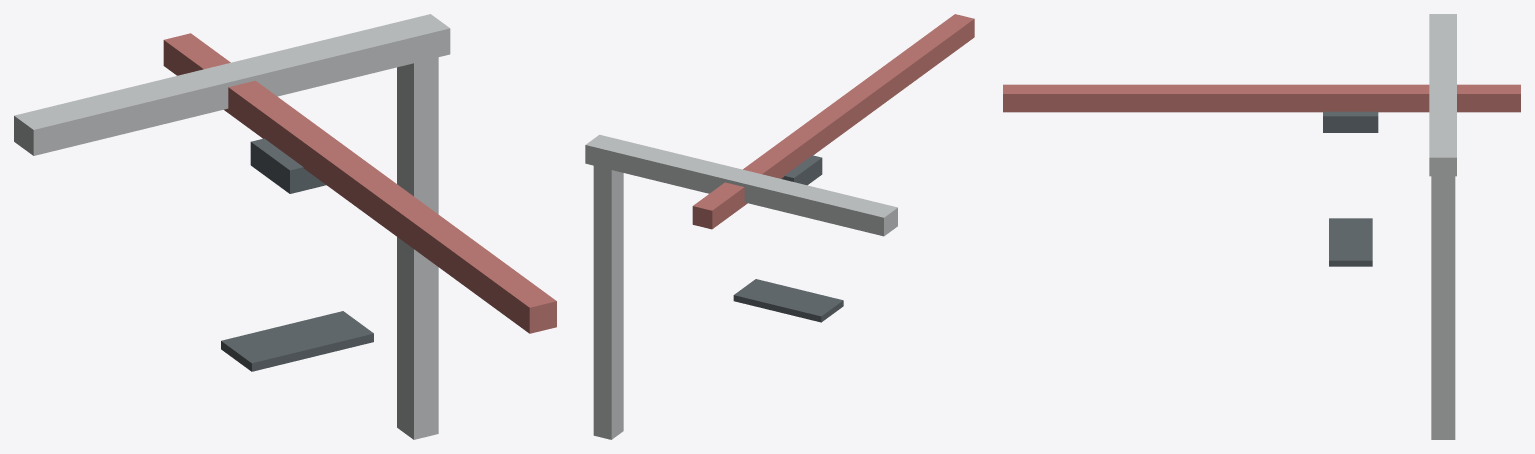
Rendered from portainer-lod2.glb.
3 views of the same model, side by side, from view 1: azimuth 30°, elevation 25°; view 2: azimuth 150°, elevation 25°; view 3: azimuth 270°, elevation 25° (orthographic). The views are drawn at different scales.
Visible parts, largest first — view 1: girder, boom, leg, spreader, trolley; view 2: girder, boom, leg, spreader, trolley; view 3: boom, leg, girder, spreader, trolley.
Boxes of the visible parts, x1,y1,x2,y2 form: girder: [14, 14, 450, 155]; boom: [163, 33, 556, 333]; leg: [397, 57, 438, 439]; spreader: [221, 311, 373, 371]; trolley: [250, 138, 326, 193]; girder: [585, 134, 897, 236]; boom: [692, 14, 974, 229]; leg: [593, 166, 623, 439]; spreader: [733, 279, 843, 322]; trolley: [781, 155, 822, 185]; boom: [1003, 84, 1520, 112]; leg: [1431, 176, 1455, 439]; girder: [1429, 14, 1456, 176]; spreader: [1329, 218, 1372, 266]; trolley: [1323, 111, 1378, 132].
Bounding box in the file's own units: 9.2 × 8.52 × 14.
